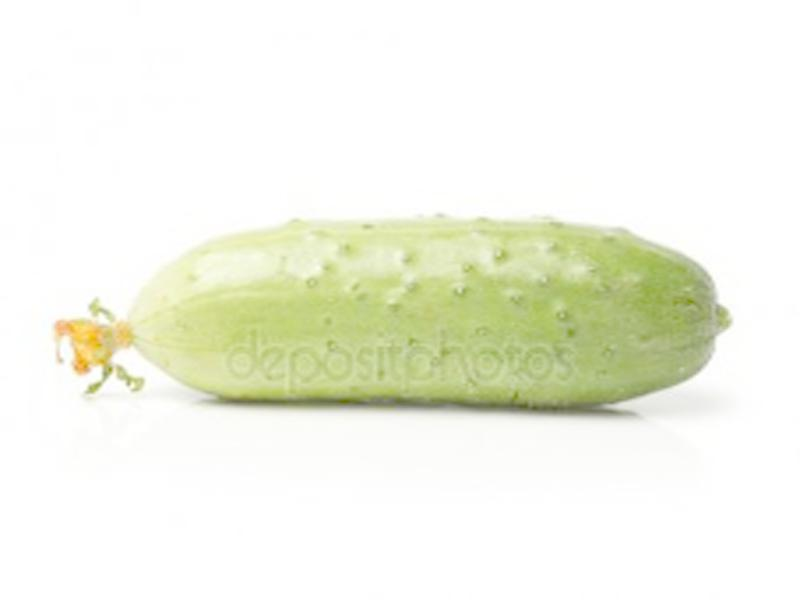Cucumber: (56, 217, 733, 412)
